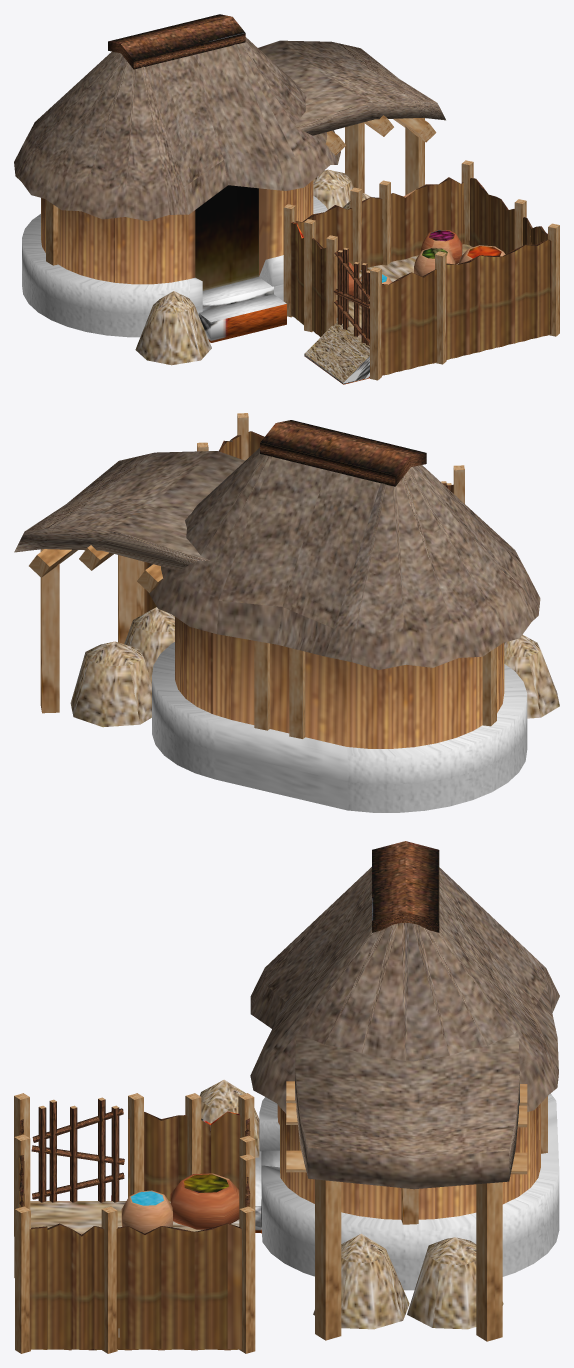
Rendered from corral_2.dae.
The picture shows the model from 3 angles, top to bottom: view 1: azimuth 30°, elevation 25°; view 2: azimuth 150°, elevation 25°; view 3: azimuth 270°, elevation 25°; orthographic projection. The views are drawn at different scales.
Visible parts, largest first — view 1: corral_2; view 2: corral_2; view 3: corral_2.
Boxes of the visible parts, box(x1,y1,x2,y2) form: corral_2: box(14, 14, 559, 384); corral_2: box(14, 413, 559, 812); corral_2: box(14, 841, 559, 1353).
Bounding box in the file's own units: 15.48 × 13.72 × 9.18.
